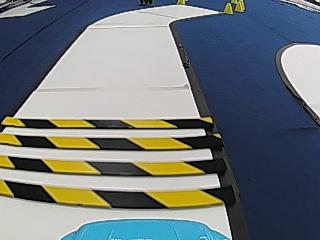bump: (2, 104, 229, 211)
